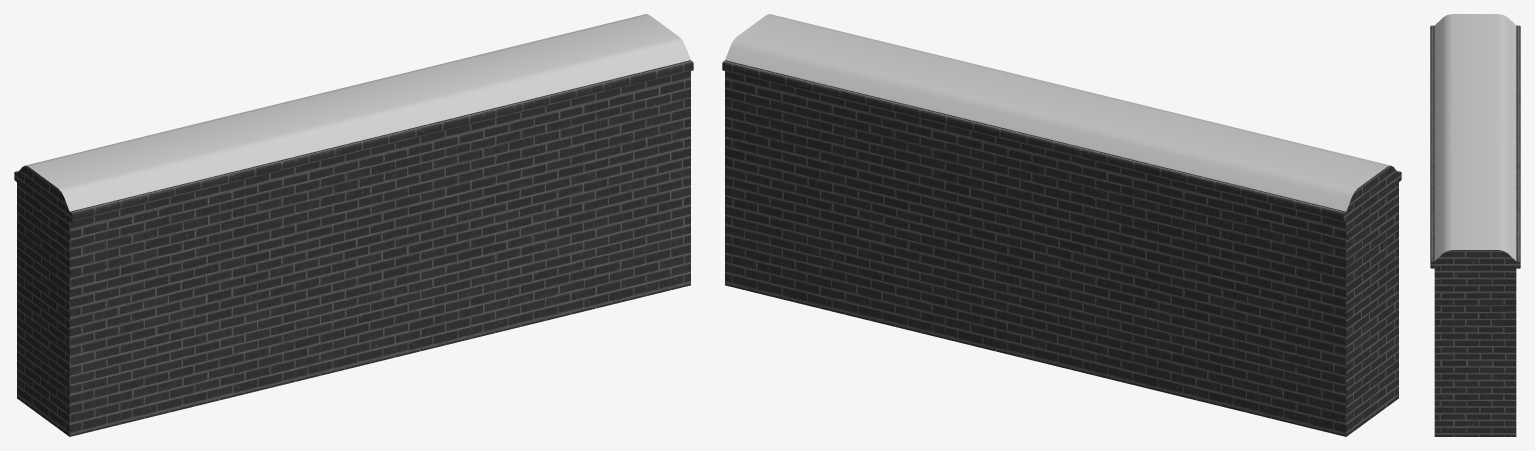
File: SM_GH_Parapet_005.fbx
The picture shows the model from 3 angles, left to right: view 1: azimuth 30°, elevation 25°; view 2: azimuth 150°, elevation 25°; view 3: azimuth 270°, elevation 25°; orthographic projection. The views are drawn at different scales.
Visible parts, largest first — view 1: SM_GH_Parapet_005; view 2: SM_GH_Parapet_005; view 3: SM_GH_Parapet_005.
Boxes of the visible parts, x1,y1,x2,y2 form: SM_GH_Parapet_005: [14, 14, 693, 436]; SM_GH_Parapet_005: [722, 14, 1401, 436]; SM_GH_Parapet_005: [1430, 14, 1520, 436].
Bounding box in the file's own units: 602 × 97.5 × 222.
